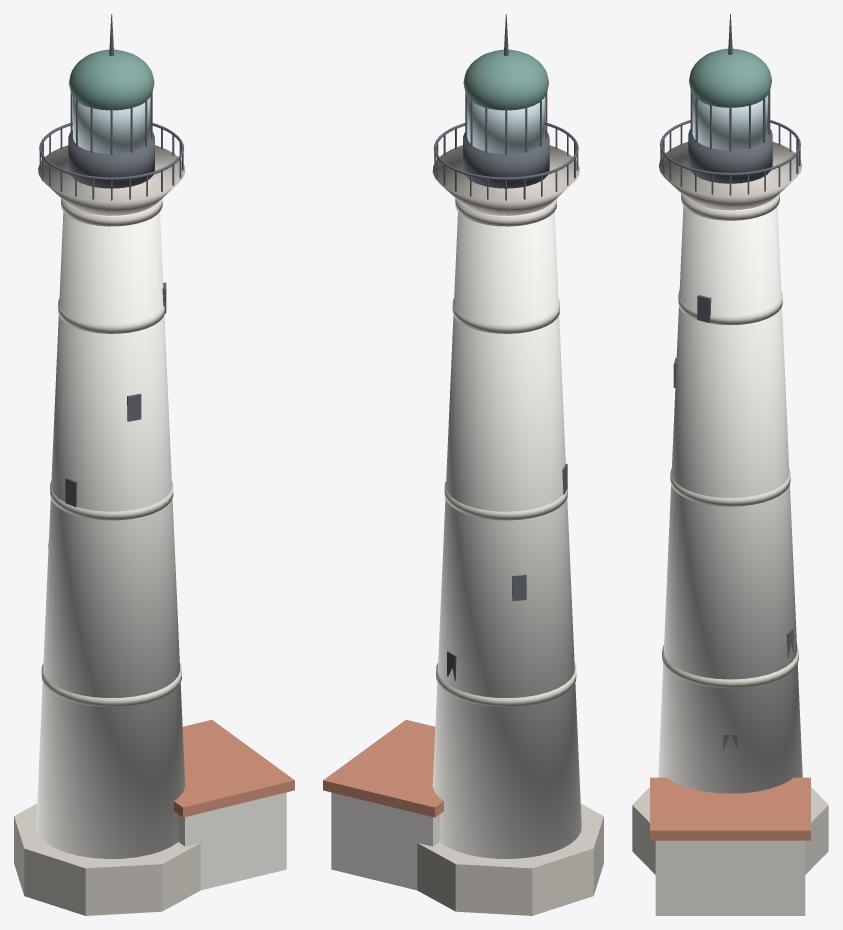
Rendered from Faro_PuntaDelEste.fbx.
3 renders of one model, left to right at view 1: azimuth 30°, elevation 25°; view 2: azimuth 150°, elevation 25°; view 3: azimuth 270°, elevation 25°, orthographic. The views are drawn at different scales.
Visible parts, largest first — view 1: Faro_Shaft, Faro_Plinth, Faro_KeeperHouse, Faro_KeeperRoof, Faro_BalconyCorbel, Faro_Dome, Faro_LanternGlass, Faro_WatchRoom, Faro_Band_11, Faro_Band_21, Faro_Band_36, Faro_Band_31 (+1 smaller); view 2: Faro_Shaft, Faro_Plinth, Faro_KeeperHouse, Faro_KeeperRoof, Faro_BalconyCorbel, Faro_Dome, Faro_LanternGlass, Faro_WatchRoom, Faro_Band_11, Faro_Band_21, Faro_Band_36, Faro_Band_31 (+1 smaller); view 3: Faro_Shaft, Faro_KeeperHouse, Faro_KeeperRoof, Faro_BalconyCorbel, Faro_Dome, Faro_LanternGlass, Faro_WatchRoom, Faro_Plinth, Faro_Band_11, Faro_Band_21, Faro_Band_36, Faro_Band_31 (+1 smaller).
Boxes of the visible parts, box(x1,y1,x2,y2) form: Faro_Shaft: box(36, 205, 185, 858); Faro_Plinth: box(14, 803, 200, 915); Faro_KeeperHouse: box(178, 792, 286, 890); Faro_KeeperRoof: box(174, 719, 294, 817); Faro_BalconyCorbel: box(38, 145, 185, 215); Faro_Dome: box(69, 49, 154, 110); Faro_LanternGlass: box(73, 96, 150, 153); Faro_WatchRoom: box(68, 130, 154, 188); Faro_Band_11: box(41, 663, 181, 706); Faro_Band_21: box(50, 481, 173, 520); Faro_Band_36: box(61, 198, 162, 226); Faro_Band_31: box(58, 298, 164, 333); Faro_Shaft: box(432, 205, 581, 858); Faro_Plinth: box(417, 803, 603, 915); Faro_KeeperHouse: box(331, 792, 439, 890); Faro_KeeperRoof: box(323, 719, 443, 817); Faro_BalconyCorbel: box(432, 145, 579, 215); Faro_Dome: box(463, 49, 548, 110); Faro_LanternGlass: box(467, 96, 544, 153); Faro_WatchRoom: box(463, 130, 549, 188); Faro_Band_11: box(436, 663, 576, 706); Faro_Band_21: box(444, 481, 567, 520); Faro_Band_36: box(455, 198, 556, 226); Faro_Band_31: box(452, 298, 559, 333); Faro_Shaft: box(658, 199, 802, 793); Faro_KeeperHouse: box(655, 840, 805, 915); Faro_KeeperRoof: box(650, 777, 810, 840); Faro_BalconyCorbel: box(659, 142, 801, 210); Faro_Dome: box(689, 48, 771, 107); Faro_LanternGlass: box(692, 94, 768, 150); Faro_WatchRoom: box(688, 129, 772, 183); Faro_Plinth: box(632, 787, 828, 874); Faro_Band_11: box(662, 645, 798, 688); Faro_Band_21: box(670, 468, 790, 506); Faro_Band_36: box(681, 193, 779, 220); Faro_Band_31: box(678, 290, 782, 325).
Size of the model in its own units: 13.1 by 47 by 10.
